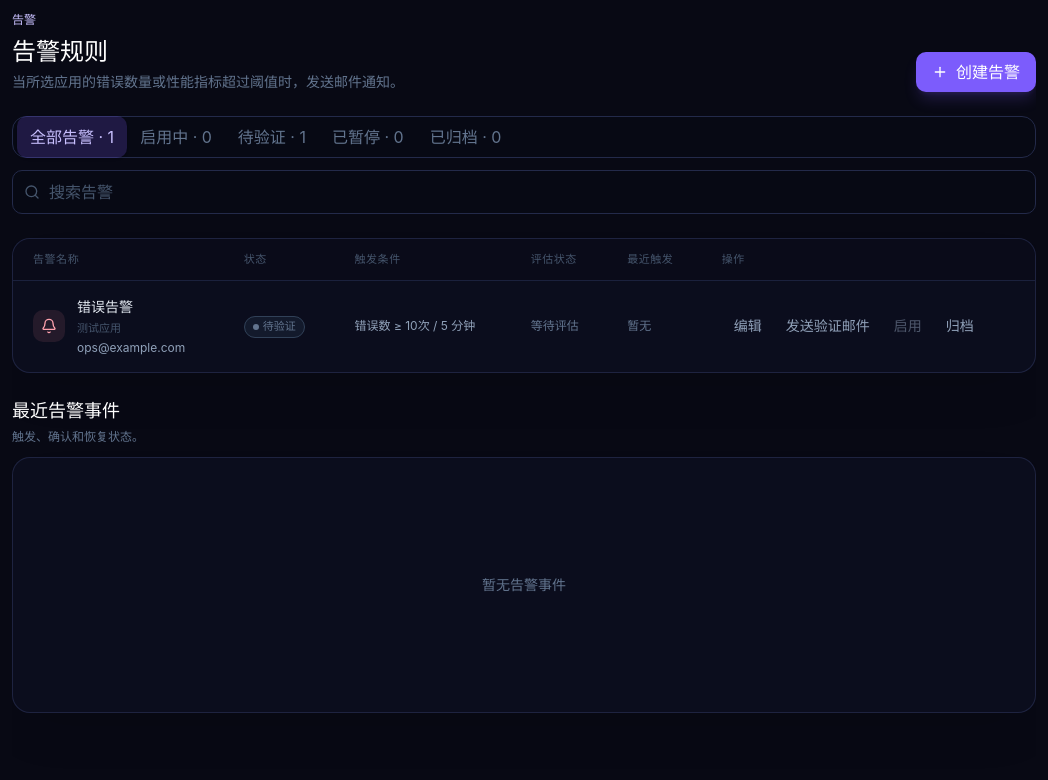
Scenario: alert rule recipients › shows pending rules, blocks enabling, and requests verification for the selected rule
Check: the text "待验证" is shown, box [244,316,305,338]
Check: the button "启用" is disabled, box [882,310,934,342]
Step 1. Click the button "发送验证邮件" → (828, 326), box [774,310,882,342]
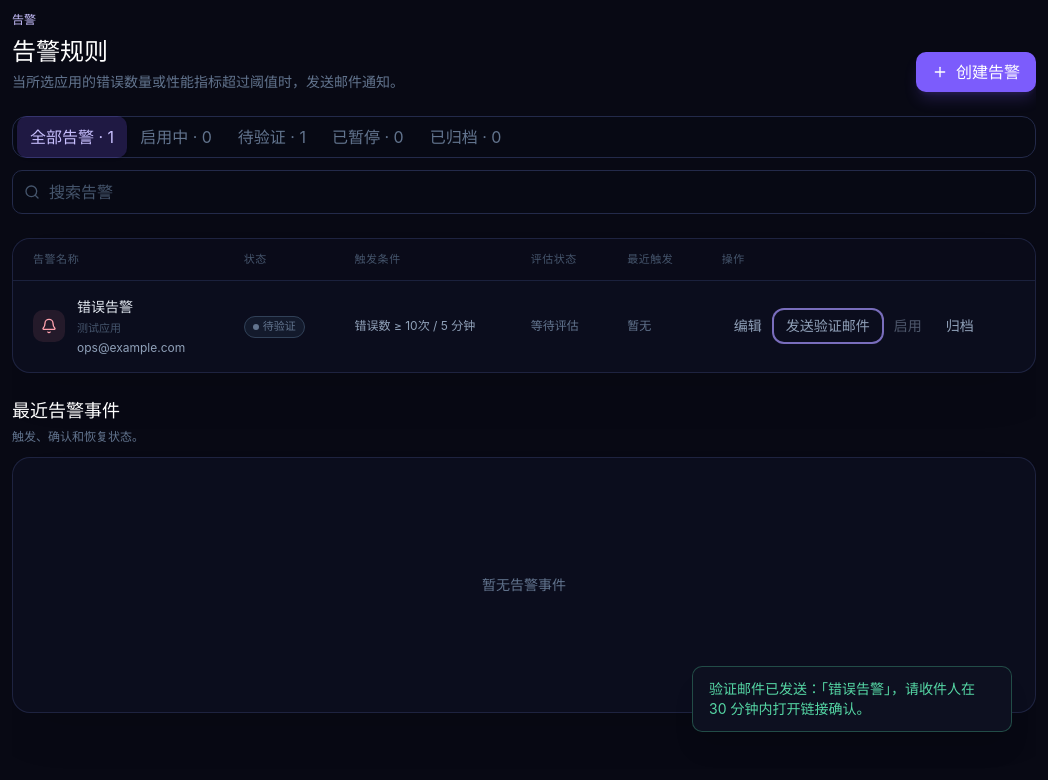
Check: the message shows "验证邮件已发送", box [709,680,975,717]
